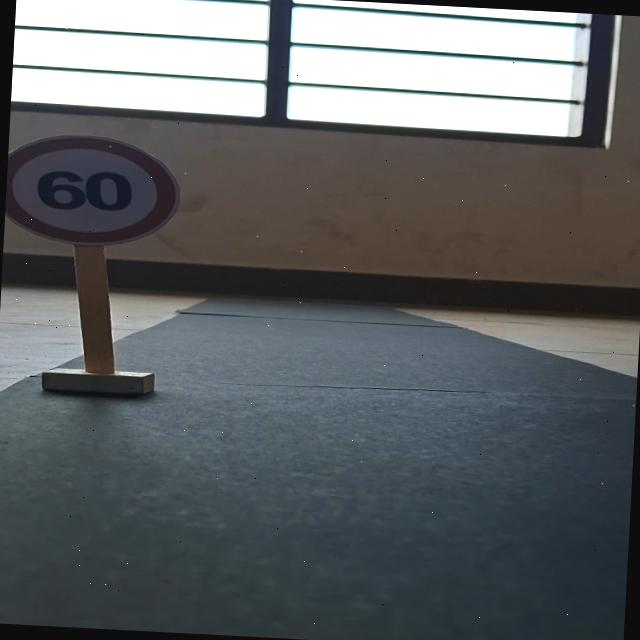Speed60: (3, 130, 200, 252)
